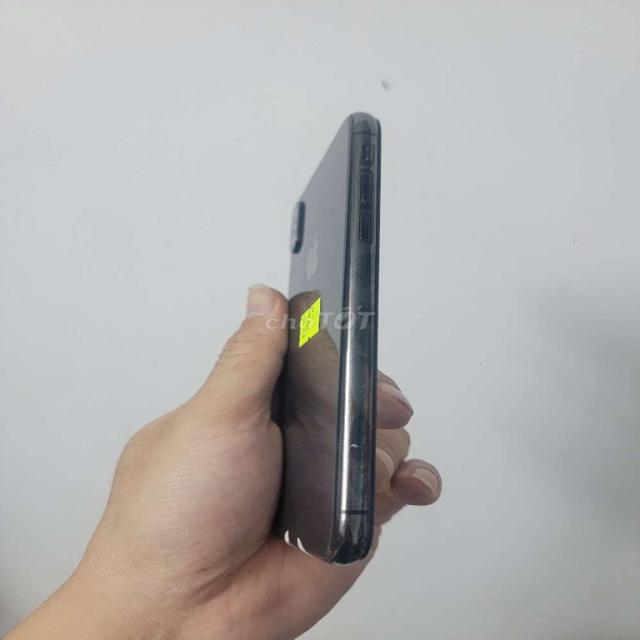gen_x_xs: (273, 113, 381, 563)
